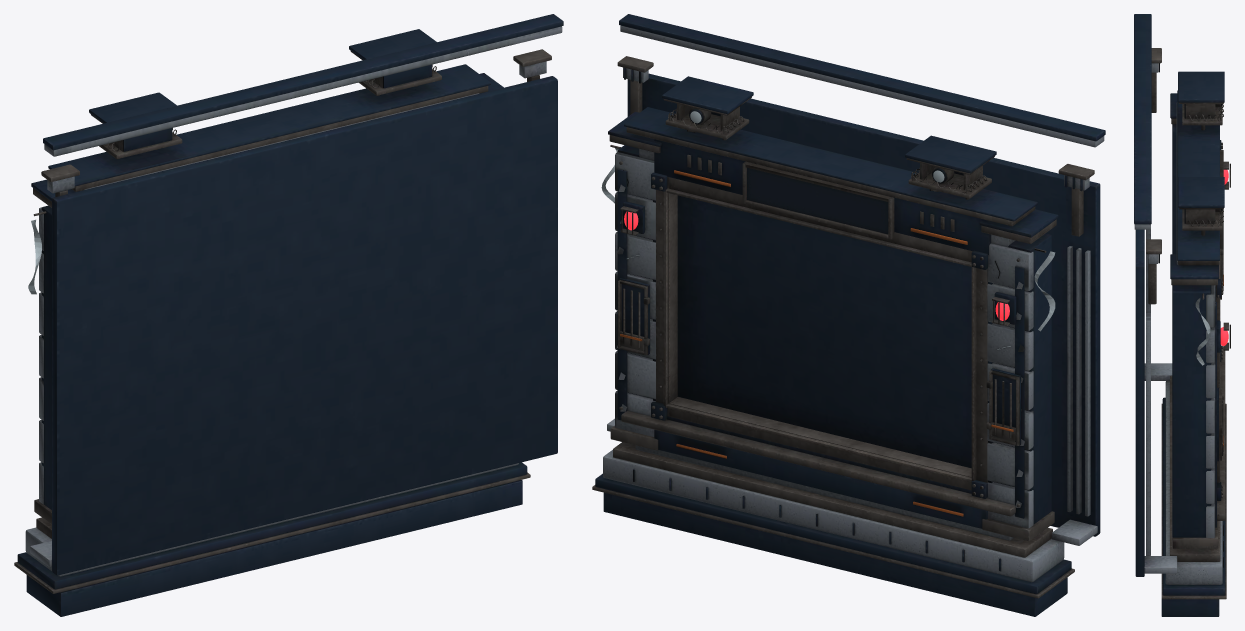
The picture shows the model from 3 angles, left to right: view 1: azimuth 30°, elevation 25°; view 2: azimuth 150°, elevation 25°; view 3: azimuth 270°, elevation 25°; orthographic projection. The views are drawn at different scales.
Parts seen in each view (by area): view 1: Night_navy_steel, Chipped_concrete, Weathered_iron_rust; view 2: Night_navy_steel, Weathered_iron_rust, Chipped_concrete, Uniform_dark_panel, Orange_safety_enamel, Moonlit_chalk_paper_lens; view 3: Night_navy_steel, Weathered_iron_rust, Chipped_concrete, Moonlit_chalk_paper_lens, Alarm_red_glow.
Boxes of the visible parts, box(x1,y1,x2,y2) form: Night_navy_steel: box(17, 14, 563, 616); Chipped_concrete: box(25, 26, 562, 576); Weathered_iron_rust: box(14, 49, 551, 593); Night_navy_steel: box(595, 14, 1105, 616); Weathered_iron_rust: box(592, 56, 1094, 598); Chipped_concrete: box(603, 25, 1104, 582); Uniform_dark_panel: box(747, 167, 888, 234); Orange_safety_enamel: box(620, 170, 1013, 516); Moonlit_chalk_paper_lens: box(601, 111, 1055, 350); Night_navy_steel: box(1134, 14, 1225, 616); Weathered_iron_rust: box(1146, 48, 1230, 599); Chipped_concrete: box(1134, 63, 1222, 584); Moonlit_chalk_paper_lens: box(1195, 298, 1210, 365); Alarm_red_glow: box(1220, 169, 1228, 345).
Bounding box in the file's own units: 10.7 × 9.8 × 2.11.
Materials: 7 (6 with a texture image).
